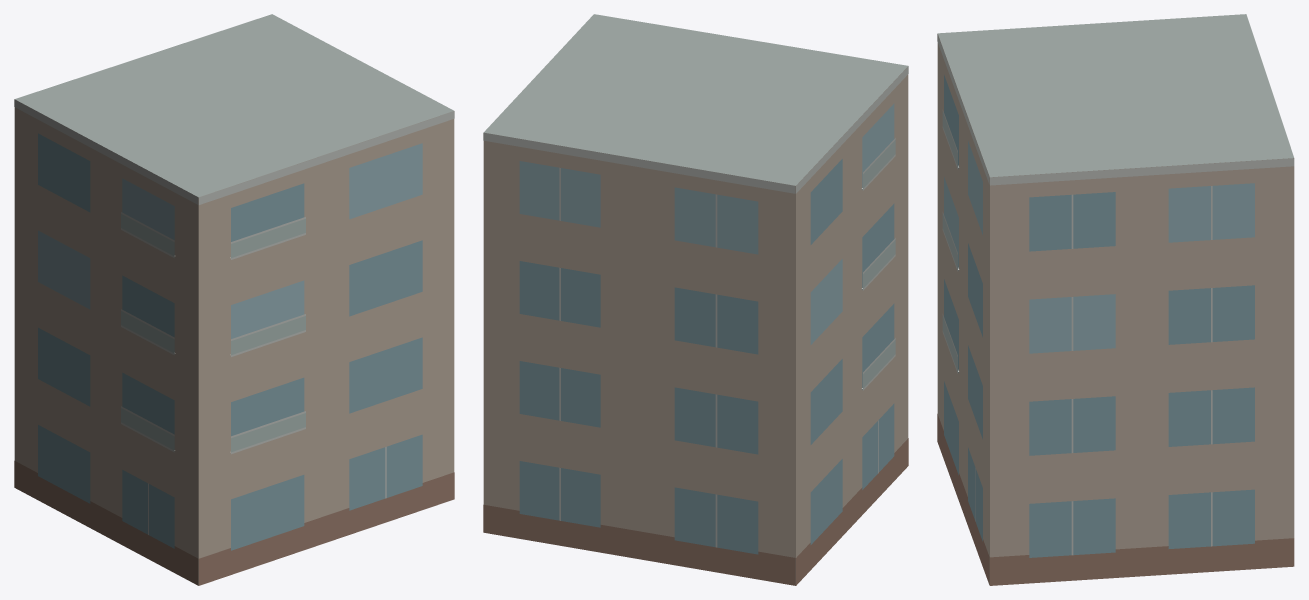
The model's file is survey-upis-32820048.glb.
The picture shows the model from 3 angles, left to right: view 1: azimuth 30°, elevation 25°; view 2: azimuth 150°, elevation 25°; view 3: azimuth 270°, elevation 25°; orthographic projection. The views are drawn at different scales.
Parts seen in each view (by area): view 1: survey-upis-32820048.tmp; view 2: survey-upis-32820048.tmp; view 3: survey-upis-32820048.tmp.
Part boxes in pixels (<box>): survey-upis-32820048.tmp: <box>14,14,454,585</box>; survey-upis-32820048.tmp: <box>483,14,908,585</box>; survey-upis-32820048.tmp: <box>937,14,1294,585</box>.
Size of the model in its own units: 10.38 by 12.1 by 9.59.
